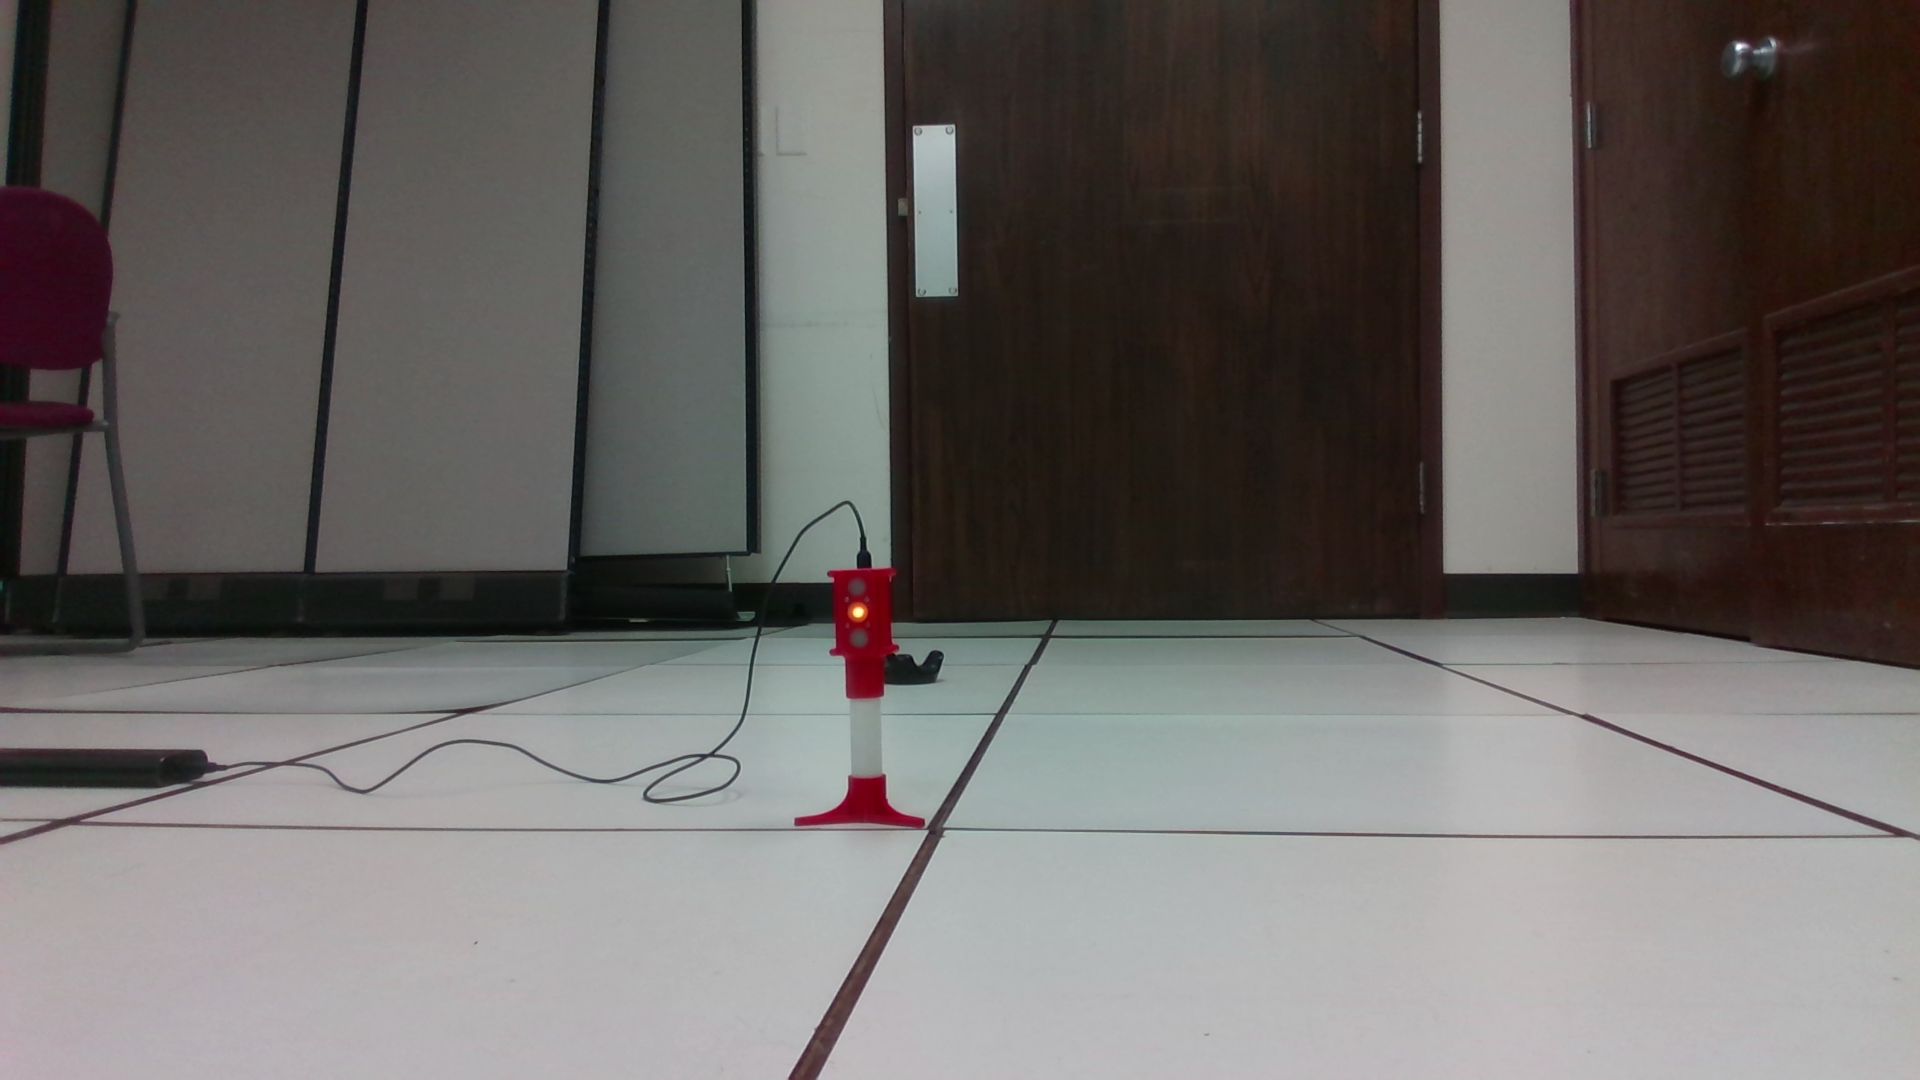stoplight: (828, 568, 899, 699)
